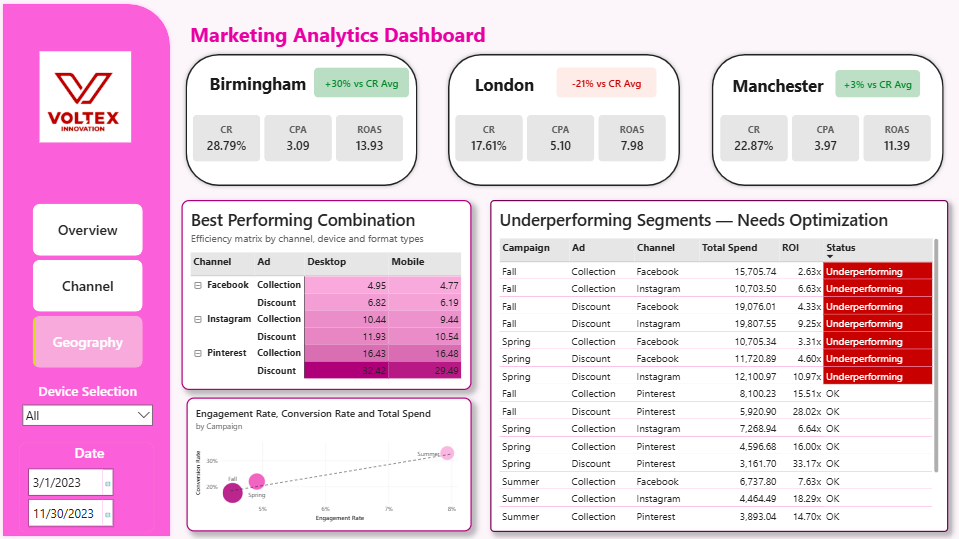

Layout of this report page (visuals, bound fields, positions):
{"tool":"powerbi","page":{"name":"Geography","canvas":[1920,1080],"ordinal":2},"visuals":[{"type":"shape","title":"Ads","box":[0,0,1920,1080],"z":0},{"type":"shape","box":[363.9,100,480,280],"z":0,"group":"g3"},{"type":"shape","box":[890.9,100,480,280],"z":0,"group":"g2"},{"type":"shape","box":[1418,100,480,280],"z":0,"group":"g1"},{"type":"shape","box":[0,0,350,1080],"z":1000},{"type":"cardVisual","title":"Facebook","fields":{"Data":["_Measure.Conversion Rate","_Measure.Cost per Conversion","_Measure.ROAS"]},"box":[387.2,229.3,421.7,93.3],"z":1000,"group":"g3"},{"type":"cardVisual","title":"Facebook","fields":{"Data":["_Measure.Conversion Rate","_Measure.Cost per Conversion","_Measure.ROAS"]},"box":[914.2,229.3,421.7,93.3],"z":1000,"group":"g2"},{"type":"cardVisual","title":"Facebook","fields":{"Data":["_Measure.Conversion Rate","_Measure.Cost per Conversion","_Measure.ROAS"]},"box":[1443,229.3,421.7,93.3],"z":1000,"group":"g1"},{"type":"textbox","box":[100,100,300,300],"z":2000},{"type":"shape","box":[1460.9,124.3,221.4,88.6],"z":2000,"group":"g1"},{"type":"shape","box":[414.2,125,220,84.3],"z":2000,"group":"g3"},{"type":"shape","box":[945.3,125.7,184,86],"z":2000,"group":"g2"},{"type":"shape","box":[375,20,1197.5,95],"z":3000},{"type":"cardVisual","fields":{"Data":["_Measure.CR City Badge Text"]},"box":[629.2,135,190,60],"z":3000,"group":"g3"},{"type":"cardVisual","fields":{"Data":["_Measure.CR City Badge Text"]},"box":[1116.1,135,200,60],"z":3000,"group":"g2"},{"type":"cardVisual","fields":{"Data":["_Measure.CR City Badge Text"]},"box":[1674,140,170,55],"z":3000,"group":"g1"},{"type":"pageNavigator","box":[66.7,406.7,220,330],"z":4000},{"type":"image","box":[67.5,102.5,210,182.5],"z":5000},{"type":"textbox","box":[110,110,300,300],"z":6000},{"type":"slicer","title":"Device Selection","fields":{"Values":["MktCampaign_Data.Device"]},"box":[42,762,270,100],"z":7000},{"type":"slicer","title":"Date","fields":{"Values":["MktCampaign_Data.Date"]},"box":[40,884,270,180],"z":8000},{"type":"group","id":"g1","title":"Group 4","box":[1418,100,480,280],"z":9000},{"type":"group","id":"g2","title":"Group 5","box":[890.9,100,480,280],"z":10000},{"type":"group","id":"g3","title":"Group 6","box":[363.9,100,480,280],"z":11000},{"type":"pivotTable","title":"Best Performing Combination","fields":{"Columns":["MktCampaign_Data.Device"],"Rows":["MktCampaign_Data.Channel","MktCampaign_Data.Ad"],"Values":["_Measure.Conversion Value per GBP"]},"box":[366,400,580,380],"z":12000},{"type":"tableEx","title":"Underperforming Segments — Needs Optimization","fields":{"Values":["MktCampaign_Data.Campaign","MktCampaign_Data.Ad","MktCampaign_Data.Channel","_Measure.Total Spend","_Measure.ROI","_Measure.Underperformer Flag"]},"box":[982,400,916,664],"z":13000},{"type":"scatterChart","fields":{"Series":["MktCampaign_Data.Campaign"],"Size":["_Measure.Total Spend"],"X":["_Measure.Engagement Rate"],"Y":["_Measure.Conversion Rate"]},"box":[376,796,570,268],"z":13001}]}

Visuals, with their boxes in screenshot pixels (x1, y1, x2, y2), scaled from the page's 1920x1080 canvas onto the 959x539 screenshot:
"Ads" shape: select_region(0, 0, 958, 538)
shape: select_region(182, 50, 422, 190)
shape: select_region(445, 50, 685, 190)
shape: select_region(708, 50, 948, 190)
shape: select_region(0, 0, 175, 538)
"Facebook" cardVisual: select_region(193, 114, 404, 161)
"Facebook" cardVisual: select_region(457, 114, 667, 161)
"Facebook" cardVisual: select_region(721, 114, 931, 161)
textbox: select_region(50, 50, 200, 200)
shape: select_region(730, 62, 840, 106)
shape: select_region(207, 62, 317, 104)
shape: select_region(472, 63, 564, 106)
shape: select_region(187, 10, 785, 57)
cardVisual - _Measure.CR City Badge Text: select_region(314, 67, 409, 97)
cardVisual - _Measure.CR City Badge Text: select_region(557, 67, 657, 97)
cardVisual - _Measure.CR City Badge Text: select_region(836, 70, 921, 97)
pageNavigator: select_region(33, 203, 143, 368)
image: select_region(34, 51, 139, 142)
textbox: select_region(55, 55, 205, 205)
"Device Selection" slicer: select_region(21, 380, 156, 430)
"Date" slicer: select_region(20, 441, 155, 531)
"Group 4" group: select_region(708, 50, 948, 190)
"Group 5" group: select_region(445, 50, 685, 190)
"Group 6" group: select_region(182, 50, 422, 190)
"Best Performing Combination" pivotTable: select_region(183, 200, 473, 389)
"Underperforming Segments — Needs Optimization" tableEx: select_region(490, 200, 948, 531)
scatterChart - MktCampaign_Data.Campaign x _Measure.Total Spend: select_region(188, 397, 473, 531)
